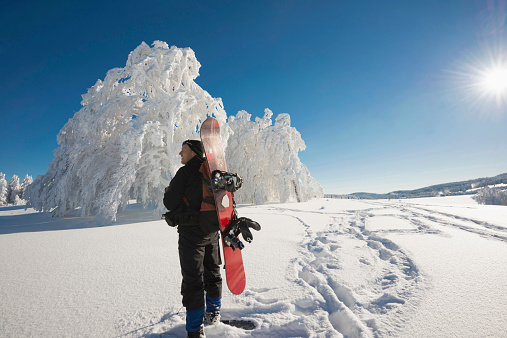em pe: (168, 134, 249, 336)
